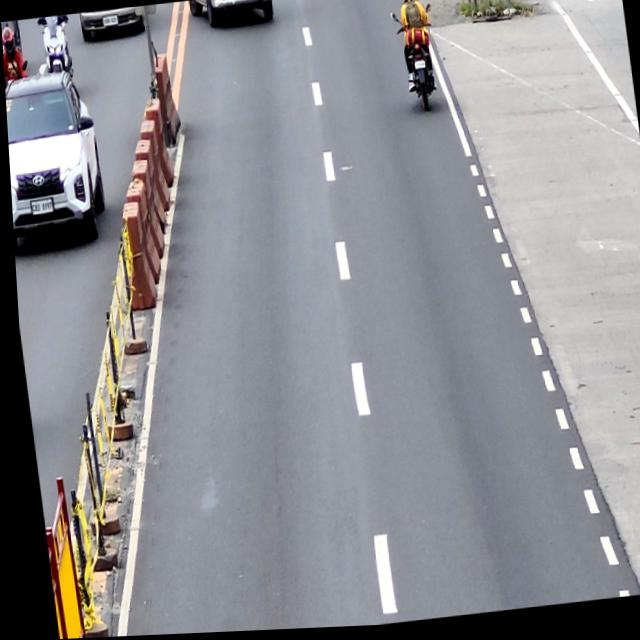License-Plate: (411, 63, 426, 72)
Motorcycle: (391, 6, 442, 114)
